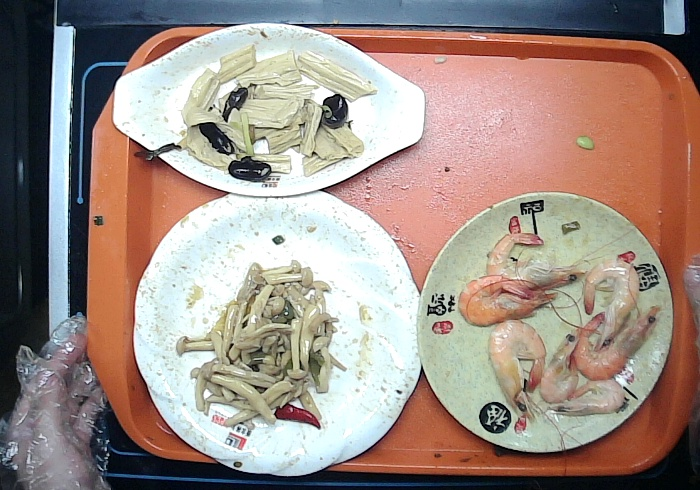NLDX-Bai_Zhe_Yuan_Pan: (132, 175, 430, 478)
NLDX-Fu_Zi_Yuan_Pan: (412, 187, 678, 462)
NLDX-Yu_Pan: (104, 17, 430, 200)
